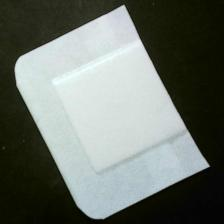Cut: (13, 5, 213, 223)
